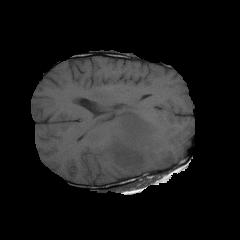glioma: (104, 102, 174, 173)
